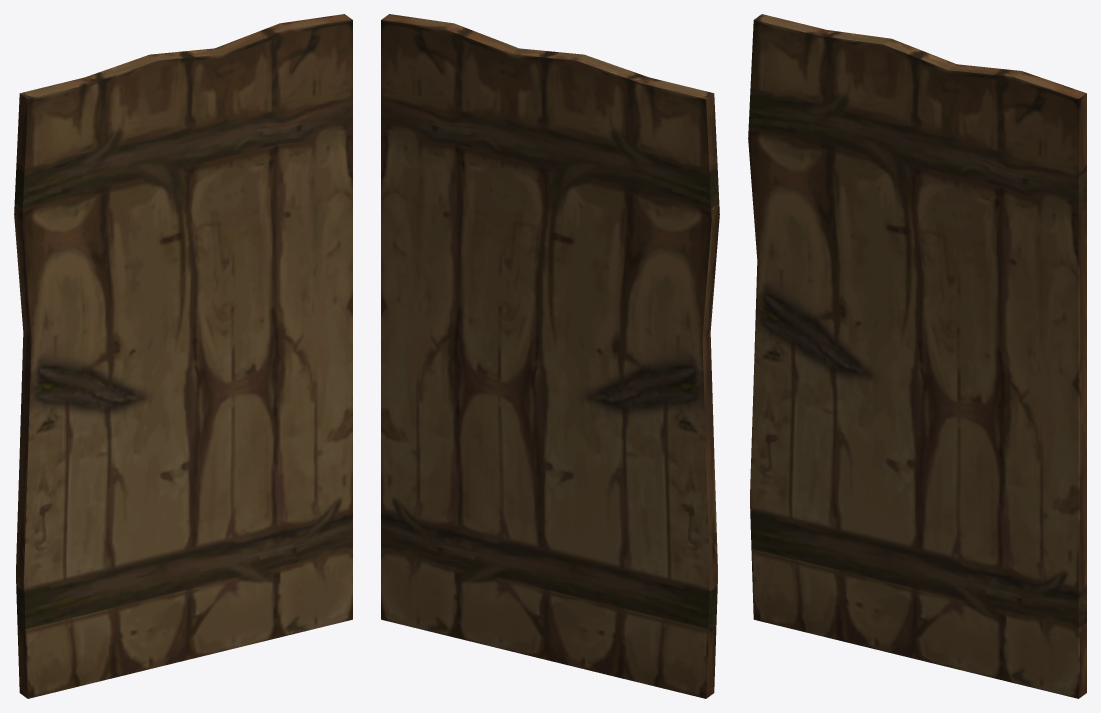
File: mf_door011d.FBX
3 renders of one model, left to right at view 1: azimuth 30°, elevation 25°; view 2: azimuth 150°, elevation 25°; view 3: azimuth 330°, elevation 25°, orthographic.
Visible parts, largest first — view 1: mf_door011d; view 2: mf_door011d; view 3: mf_door011d.
Part boxes in pixels (x1,y1,x2,y2): mf_door011d: (14, 14, 352, 698); mf_door011d: (381, 14, 719, 698); mf_door011d: (748, 14, 1086, 698).
Size of the model in its own units: 0.9702 by 1.7 by 0.0415.
Materials: 1 (1 with a texture image).
